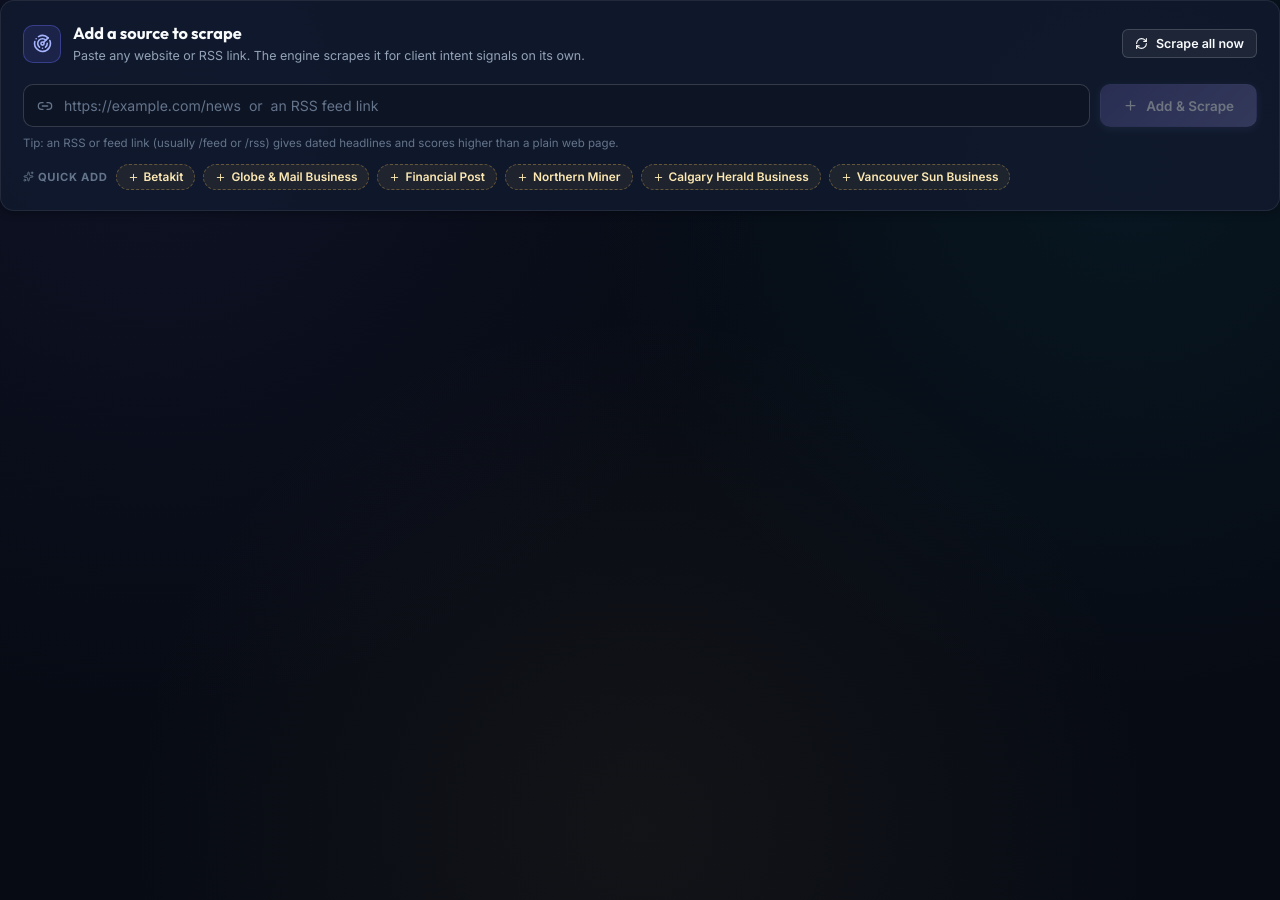
Test: SourcesPanel › shows an error when the server rejects the URL
Type "http://127.0.0.1/admin" into the field named "website url to scrape". click: coordinates (557, 106)
box: [23,84,1090,127]
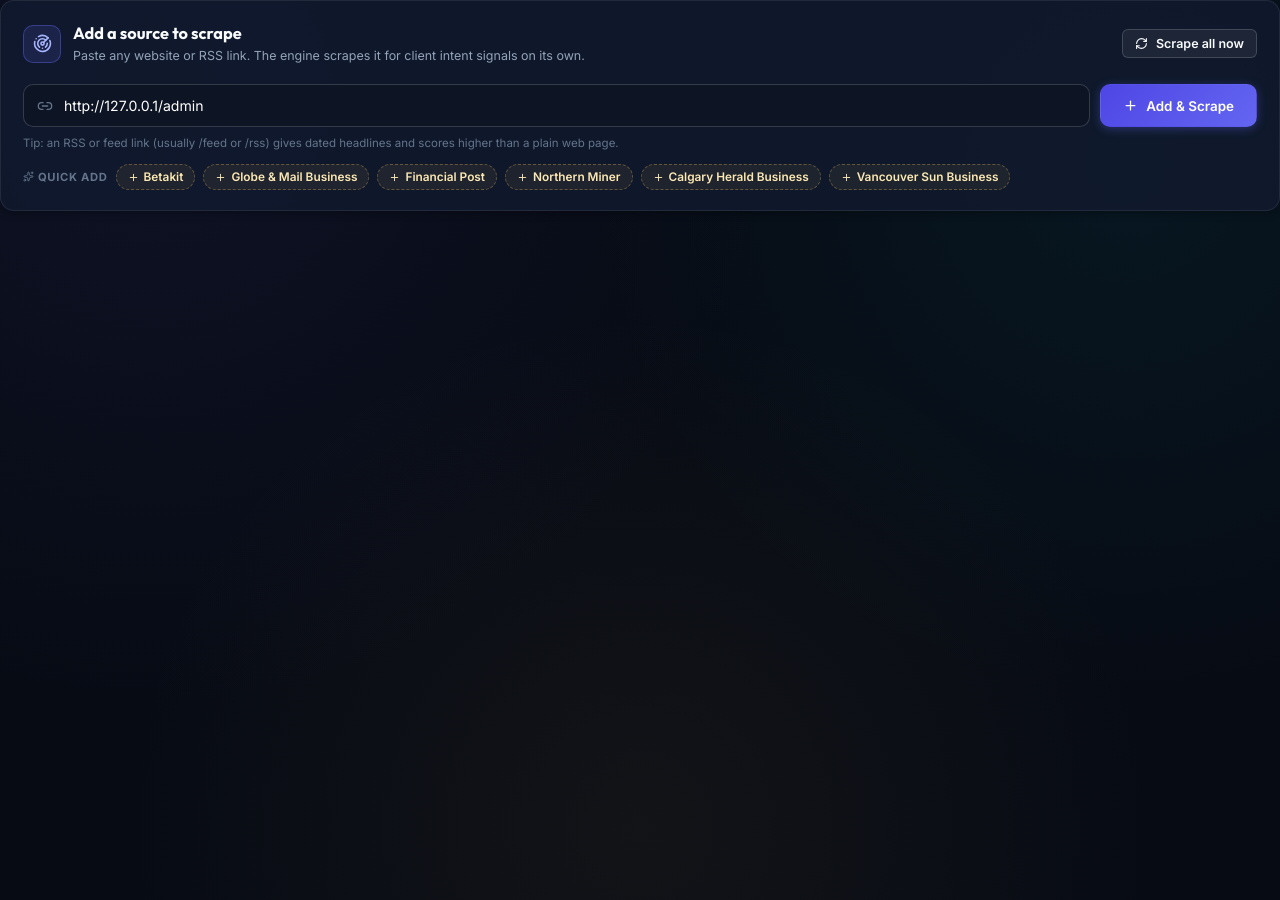
Click the button "Add & Scrape". click: coordinates (1179, 106)
box: [1100,84,1257,127]
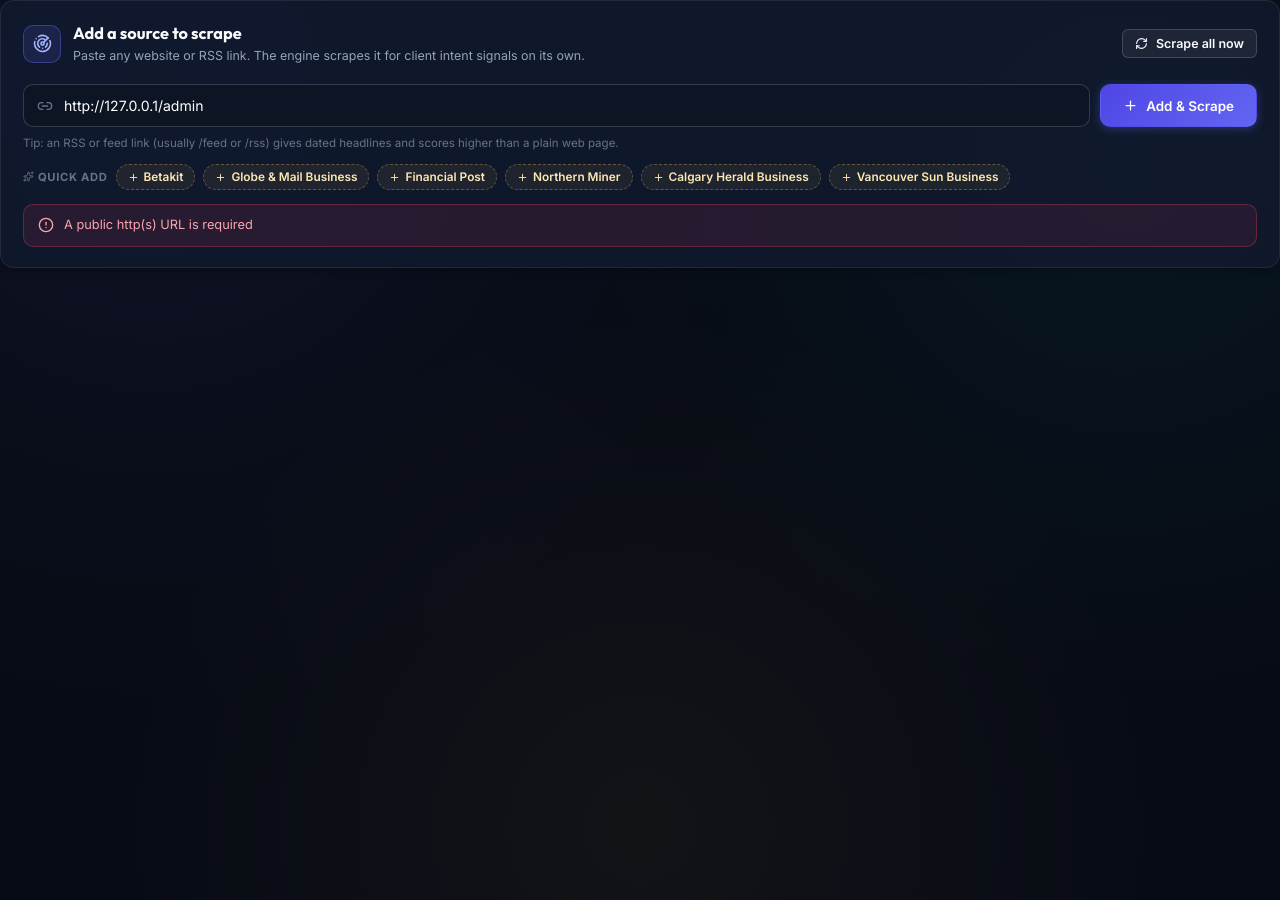
Now the message shows "public http(s) URL is required", box [64,218,253,232]
